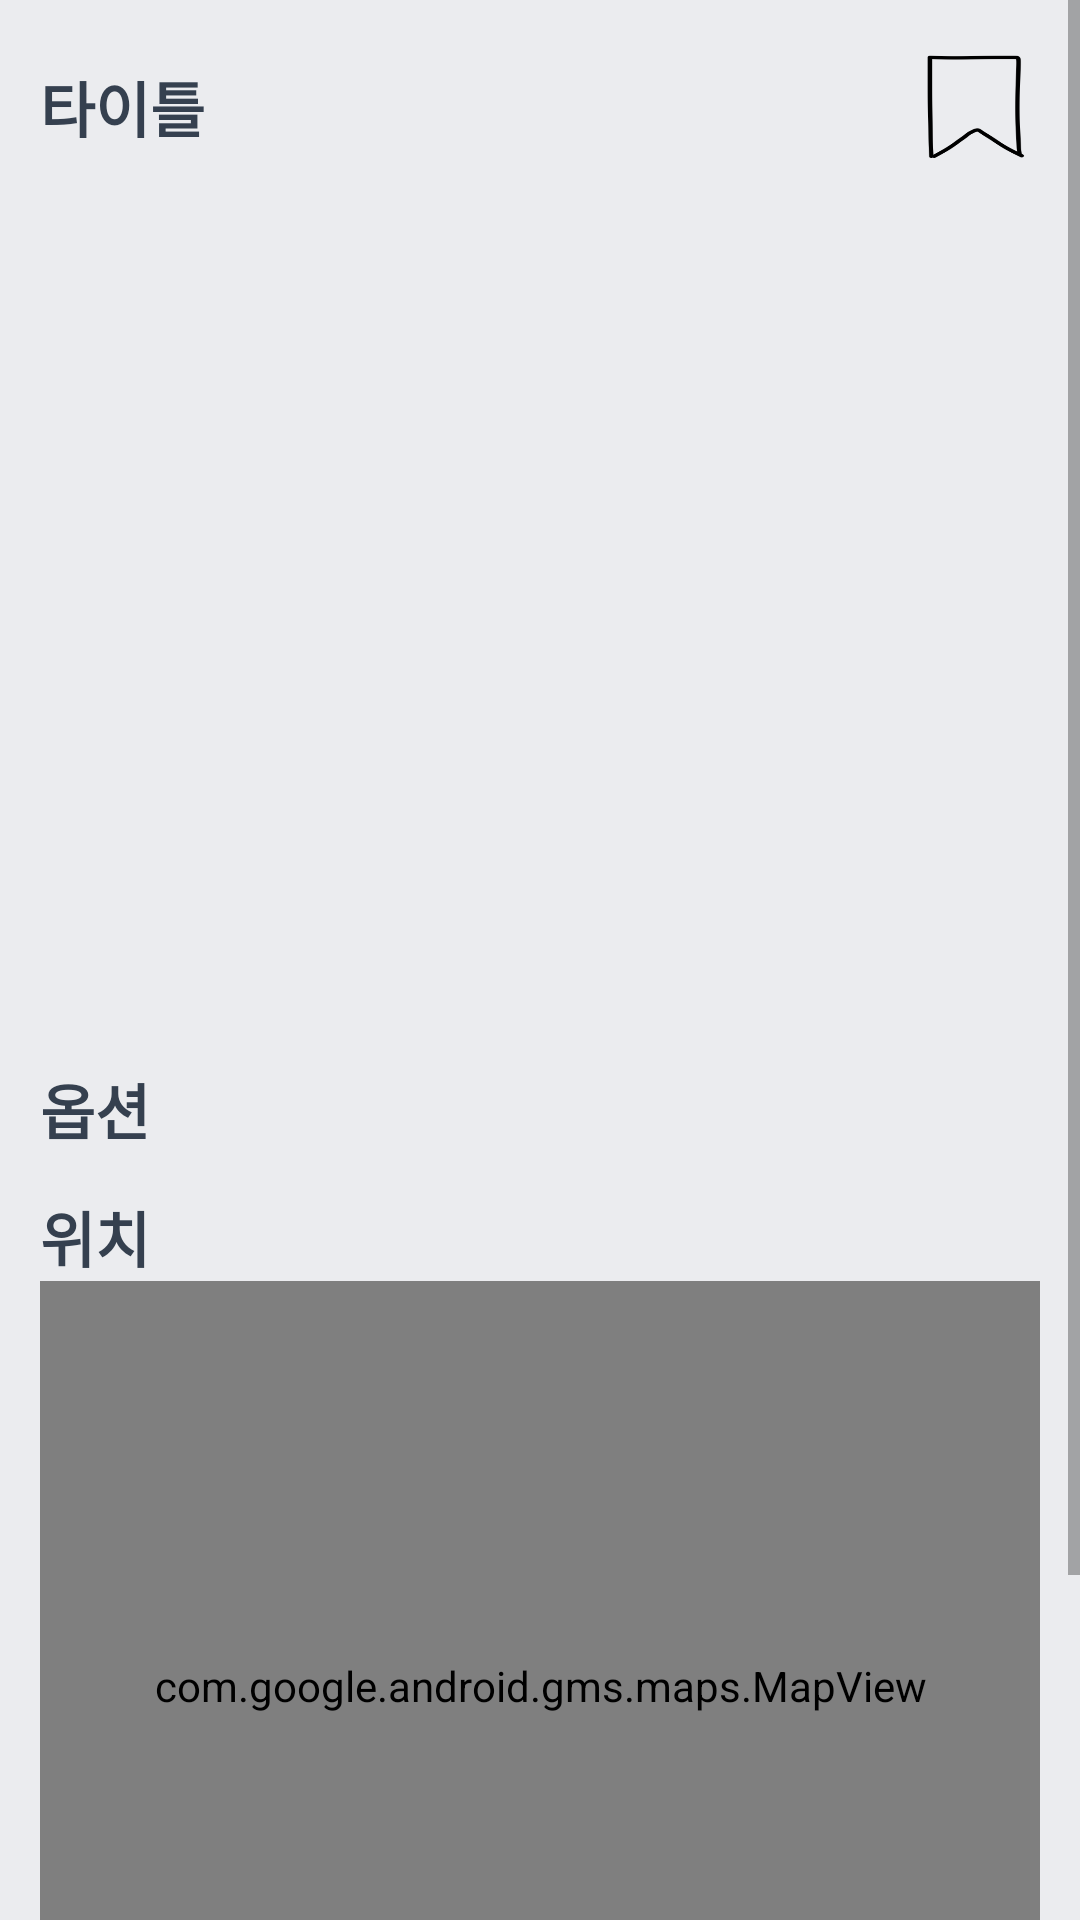

Screen size 1080x1920. Icon name, then its box in pixels as [x1=x1, y1=y1, x2=x2, y2=y2]:
favorite: [x1=927, y1=55, x2=1024, y2=158]
